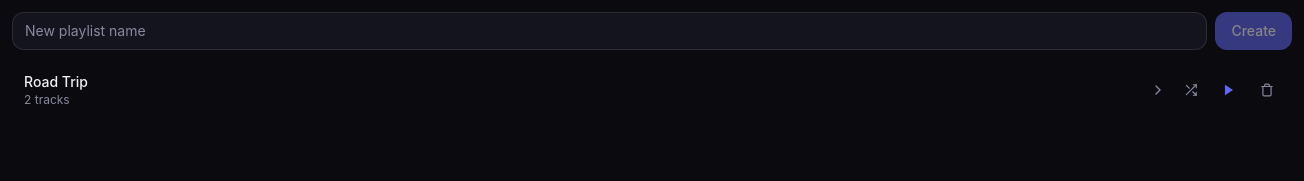
Test: PlaylistsView detail › opens a playlist and lists its tracks
What coordinates should you click on to do the following:
click the text "Road Trip"
I would click on:
 (56, 82)
Its box is x1=24 y1=73 x2=88 y2=90.
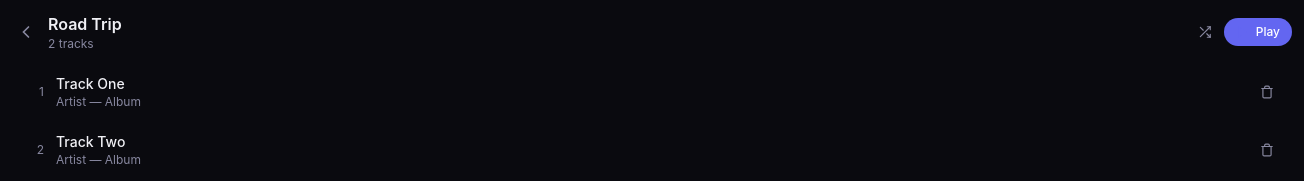
Now the text "Track One" is shown, box x1=56 y1=75 x2=125 y2=92
Now the text "Track Two" is shown, box x1=56 y1=133 x2=125 y2=150
